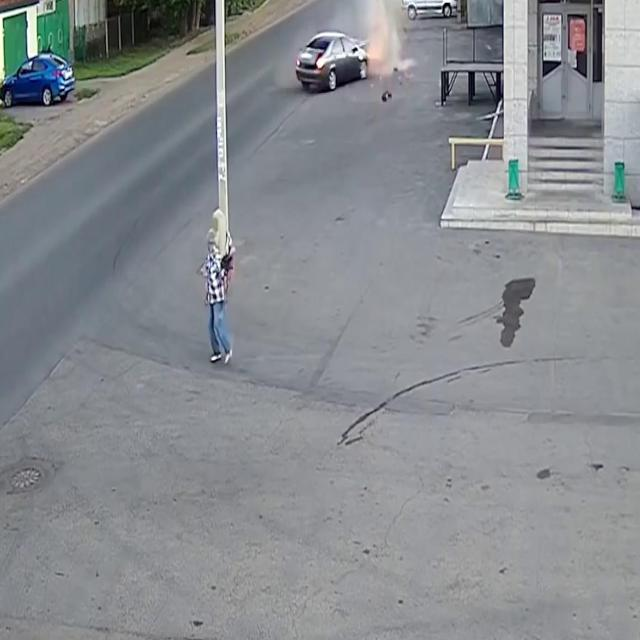accident: (291, 6, 398, 109)
